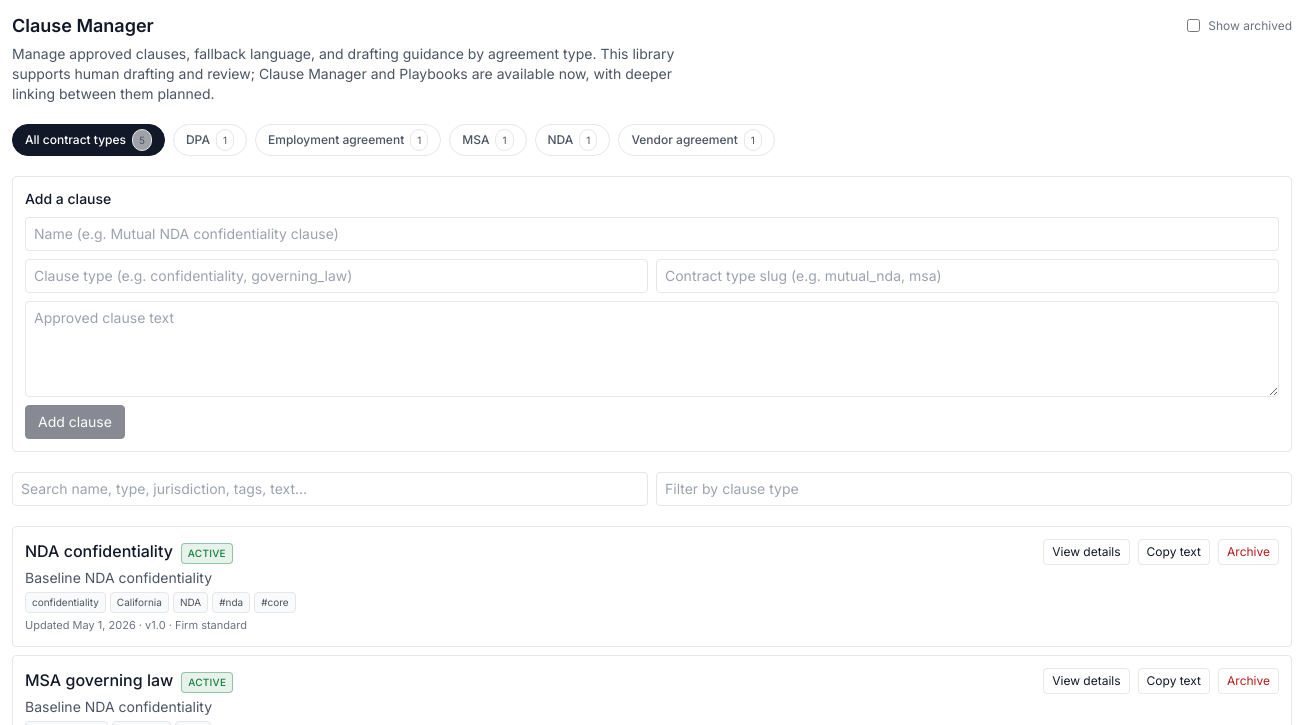
Test: ClauseLibraryPage › pre-fills the Add-clause contract_type field when a contract-type chip is selected
The width and height of the screenshot is (1304, 725).
Expected: the text "NDA confidentiality" is shown, [25,539,173,563]
Click the button with test id "clause-contract-type-chip". click: coordinates (210, 140)
box: [173,124,247,156]
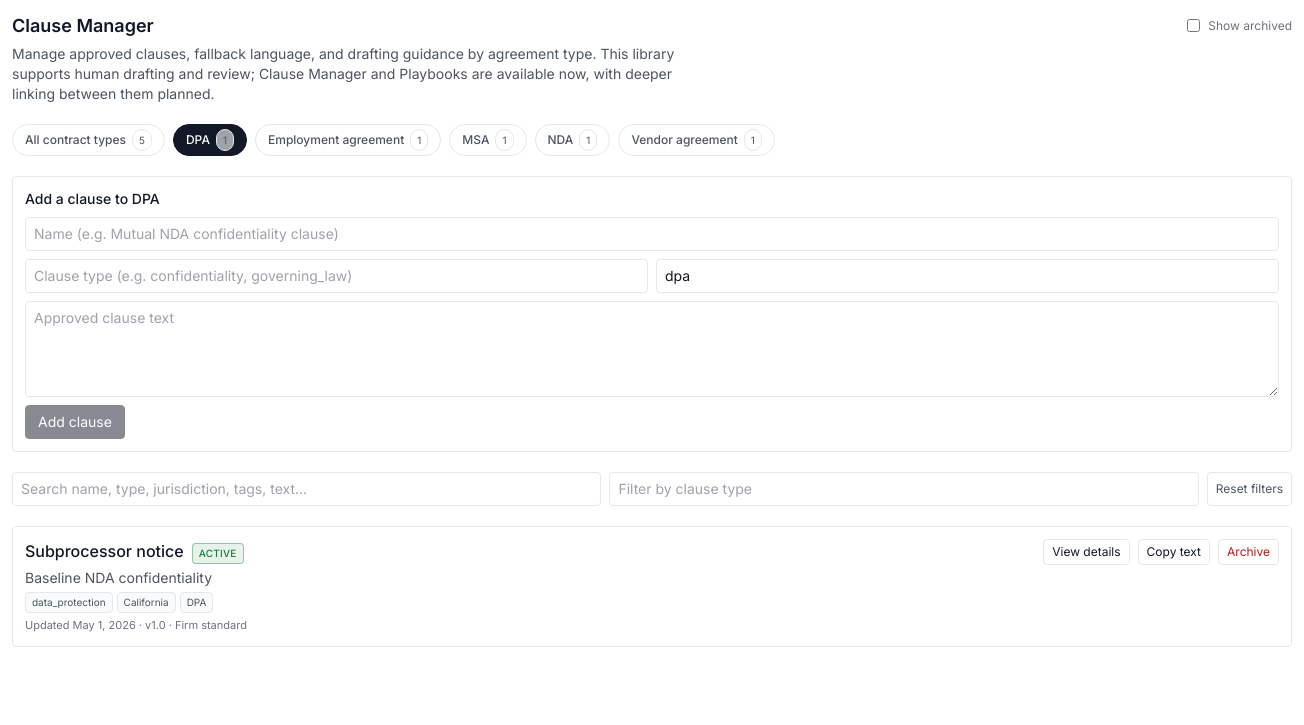
Now the field with test id "clause-create-contract-type" holds "dpa", box [656,259,1279,293]
Now the heading "Add a clause to DPA" is shown, box [25,190,160,207]
